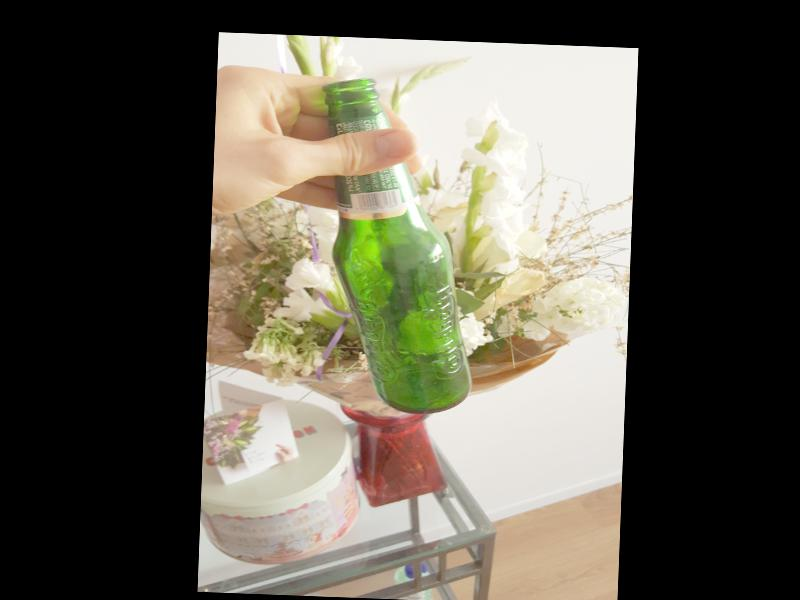Beer: (326, 77, 482, 415)
